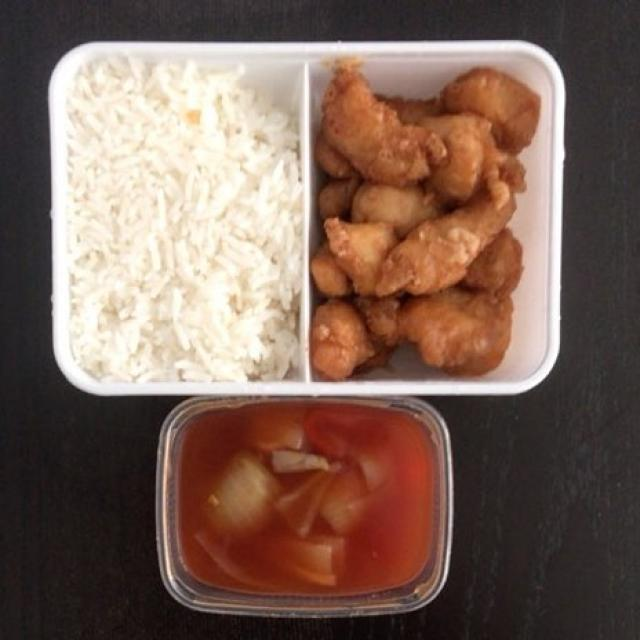fish: (313, 59, 529, 363)
rice: (44, 48, 297, 379)
